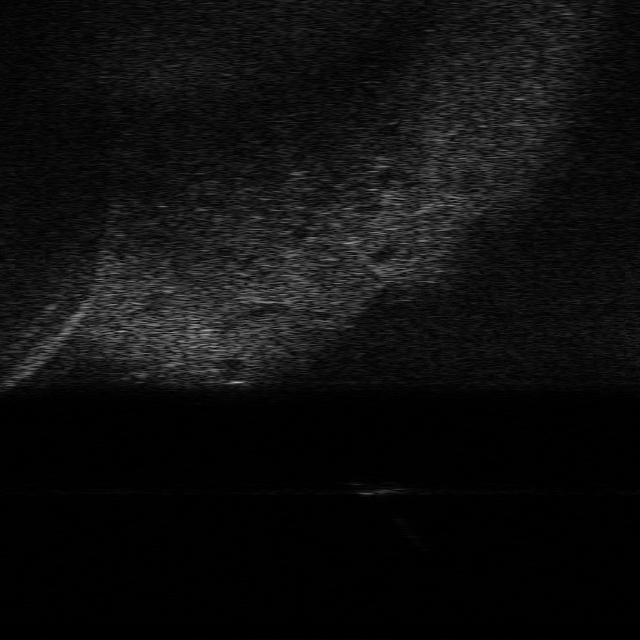cube: (348, 476, 408, 497)
